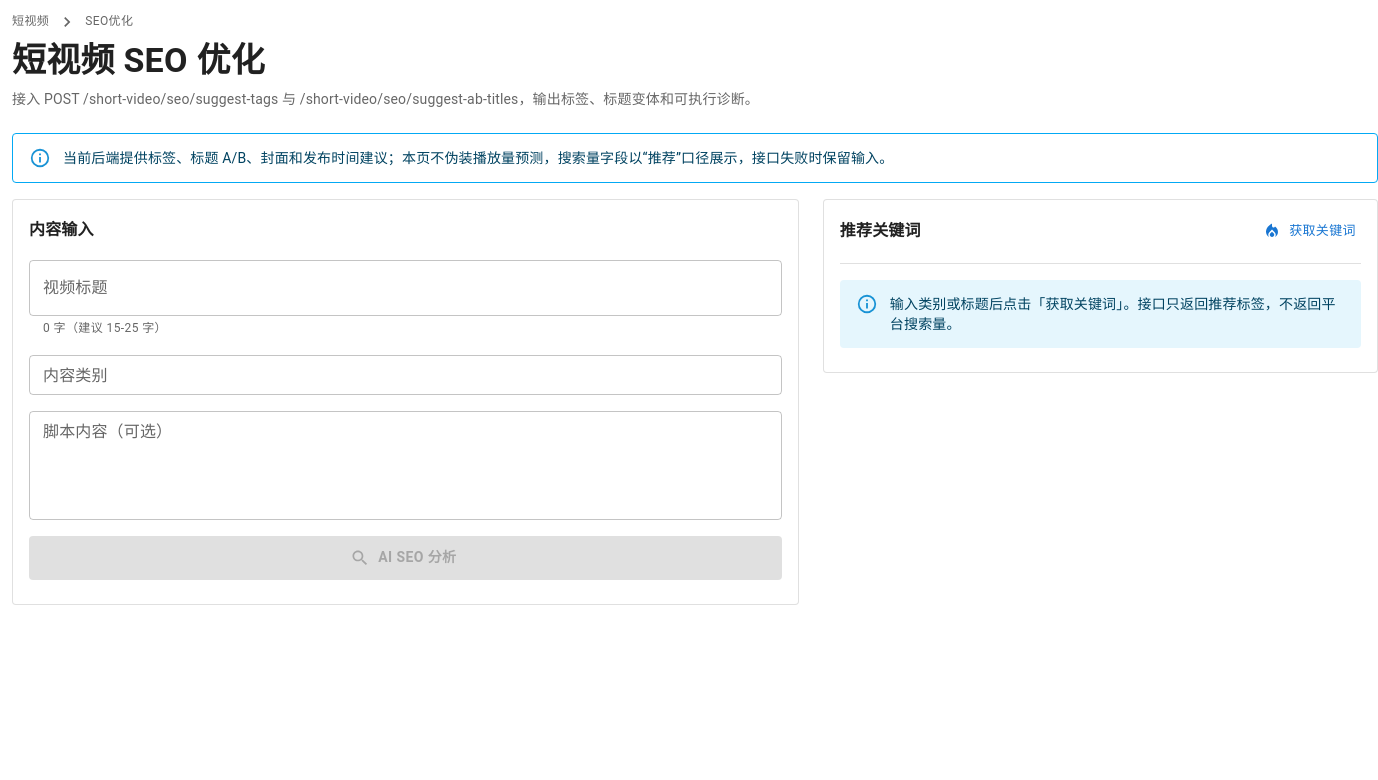
Scenario: SeoOptimizePage › shows A/B title endpoint failures and keeps title inputs
In the field labelled "视频标题": (405, 288) x1=29 y1=260 x2=782 y2=316, type "敏感肌如何修护屏障"
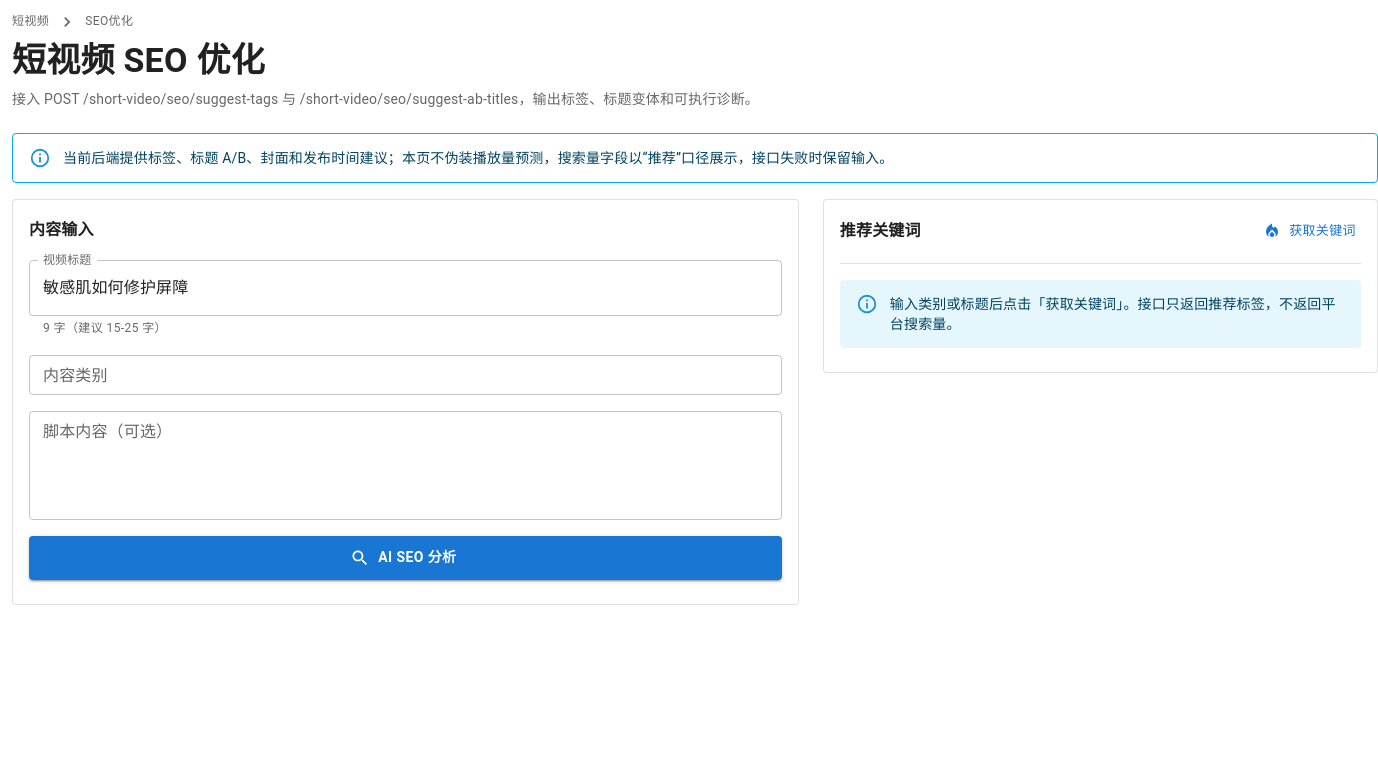
Click the button "AI SEO 分析": (405, 558) x1=29 y1=536 x2=782 y2=580
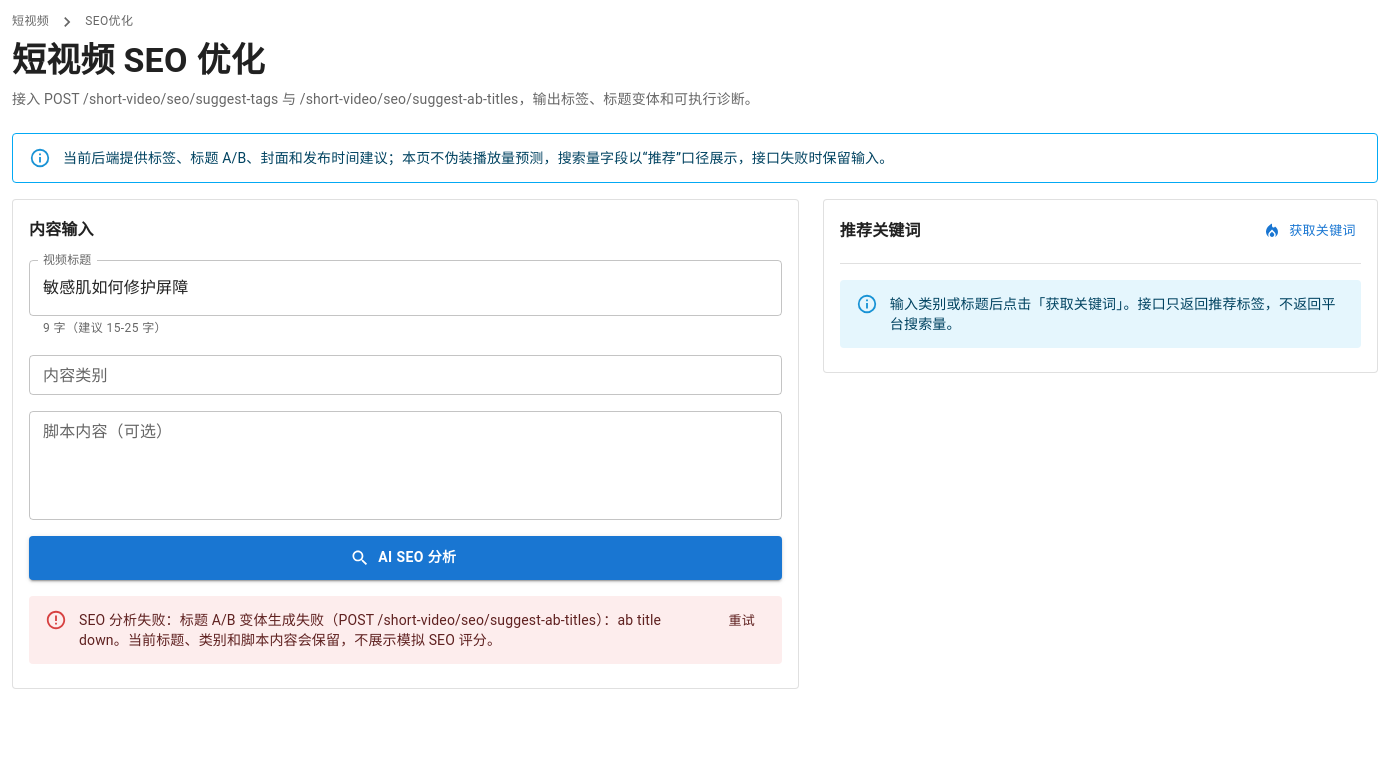
Result: the text "标题 A/B 变体生成失败（POST /short-video/seo/suggest-ab-titles）：ab title down" is shown at x1=79 y1=612 x2=661 y2=648
